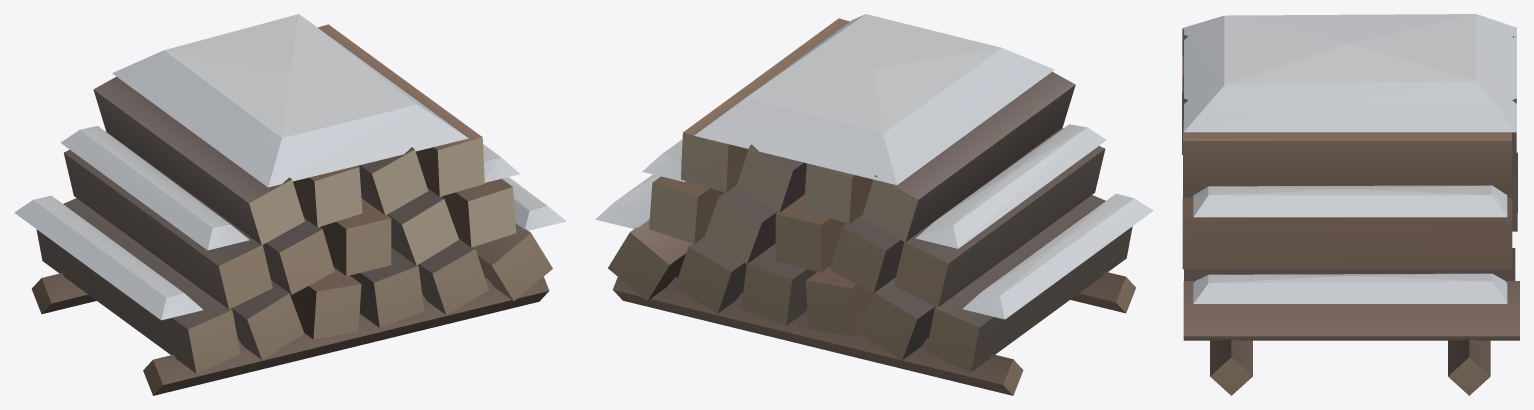
The model's file is logs.lod1.glb.
The picture shows the model from 3 angles, left to right: view 1: azimuth 30°, elevation 25°; view 2: azimuth 150°, elevation 25°; view 3: azimuth 270°, elevation 25°; orthographic projection. The views are drawn at different scales.
Size of the model in its own units: 2.1 by 1.17 by 1.42.
